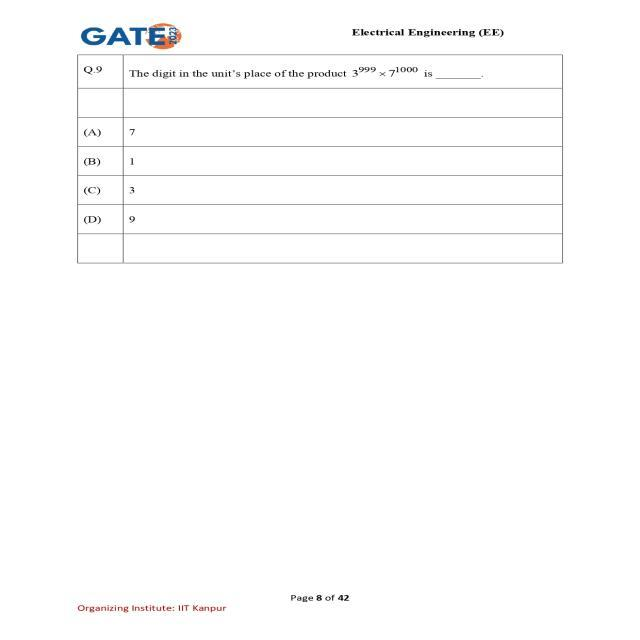Answer_Block: (69, 119, 559, 237)
Question_Answer_Block: (73, 56, 563, 235)
Question_Block: (70, 54, 566, 90)
Question_Paper_Area: (77, 54, 560, 263)
